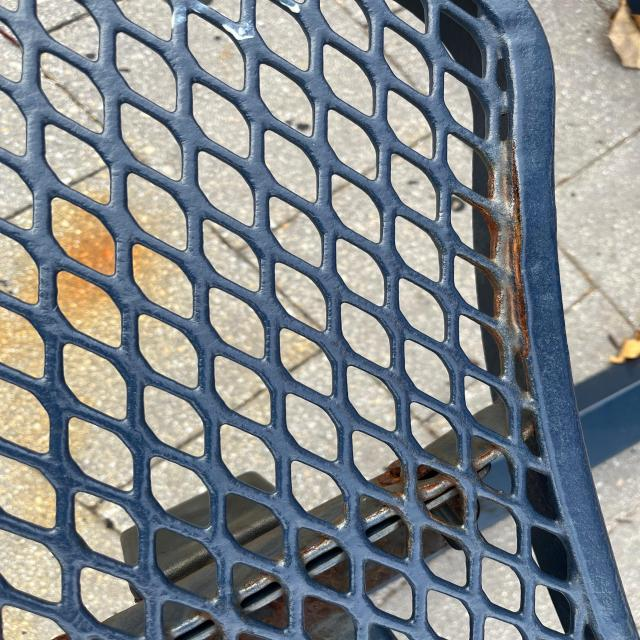Crevice Corrosion: (369, 461, 444, 491)
Filiform Corrosion: (482, 138, 534, 355)
